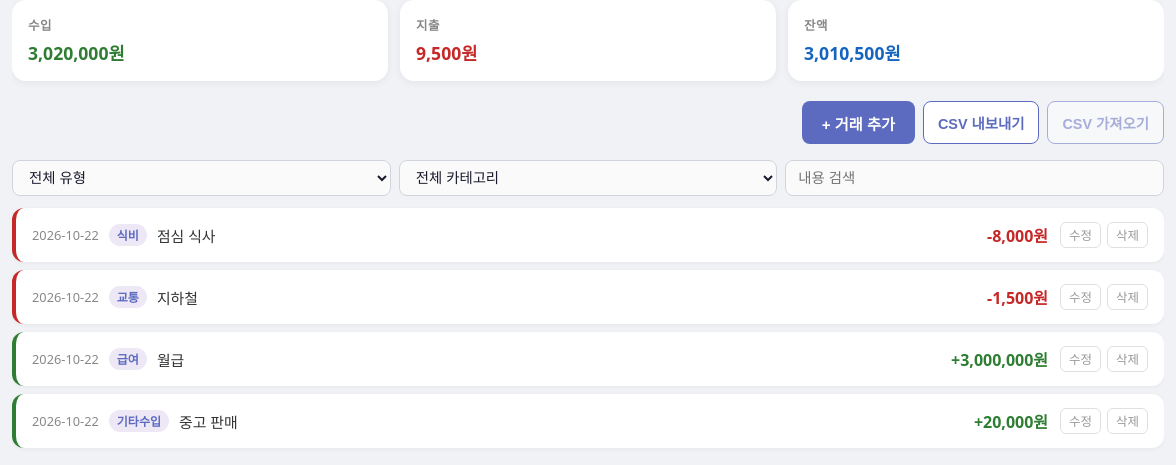
Test: 키워드 검색: 내용과 카테고리명, 앞뒤 공백 무시
In the search field labelled "내용 검색": (975, 178) [785, 160, 1164, 196], type " 점심 "
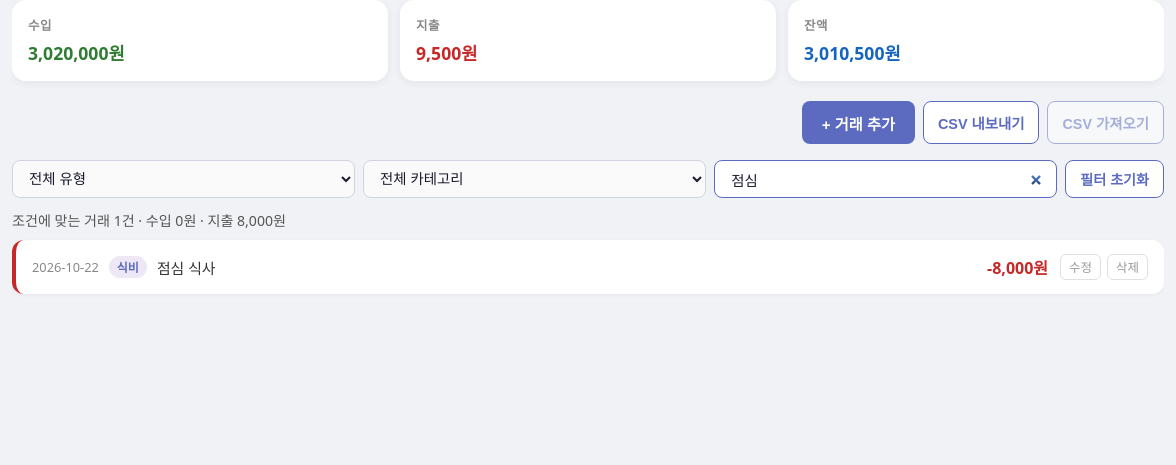
Expected: the text "점심 식사" is shown, [157, 256, 216, 278]
Now the text "월급" is gone
Clear the search field named "내용 검색": (886, 179) [714, 160, 1057, 198]
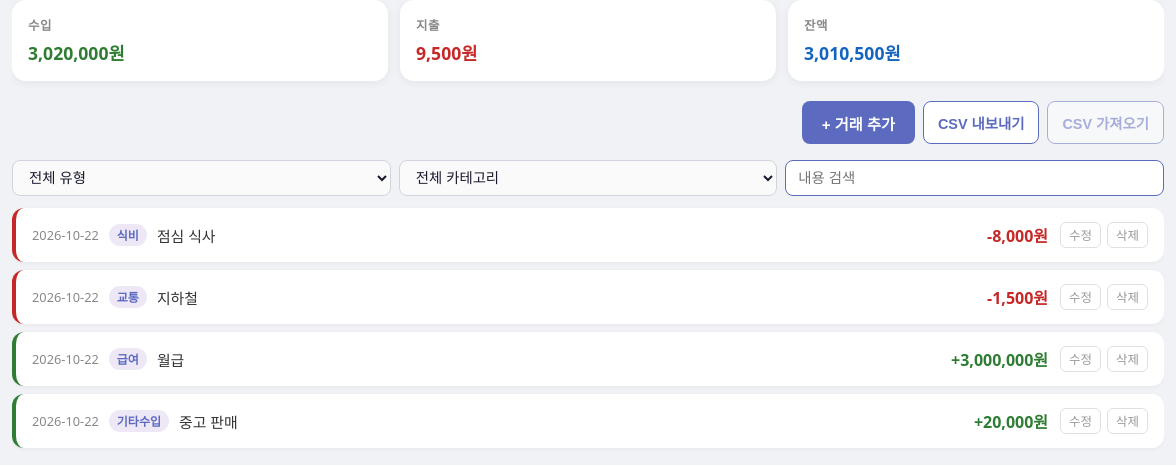
In the search field labelled "내용 검색": (975, 178) [785, 160, 1164, 196], type "교통"
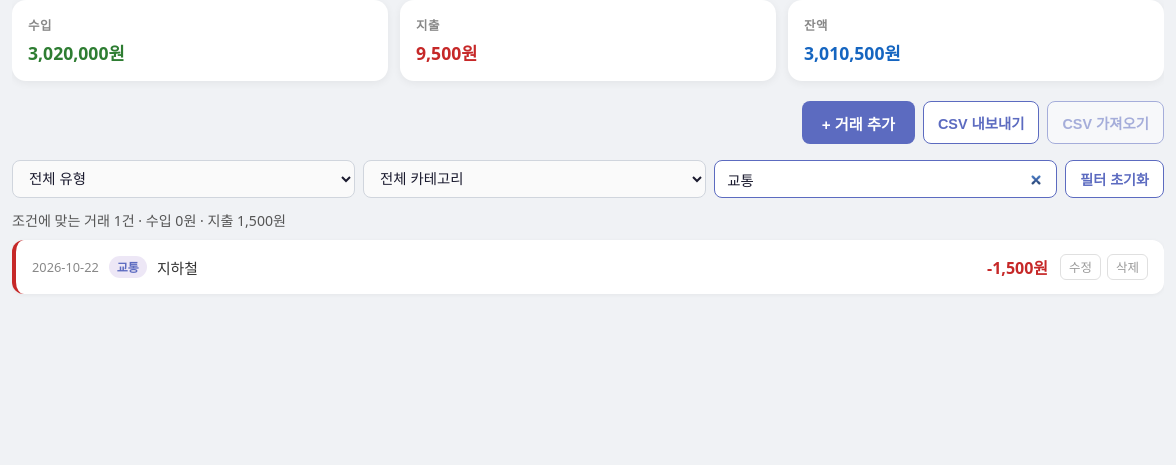
Now the text "지하철" is shown, box [157, 256, 198, 278]
Now the text "점심 식사" is gone
